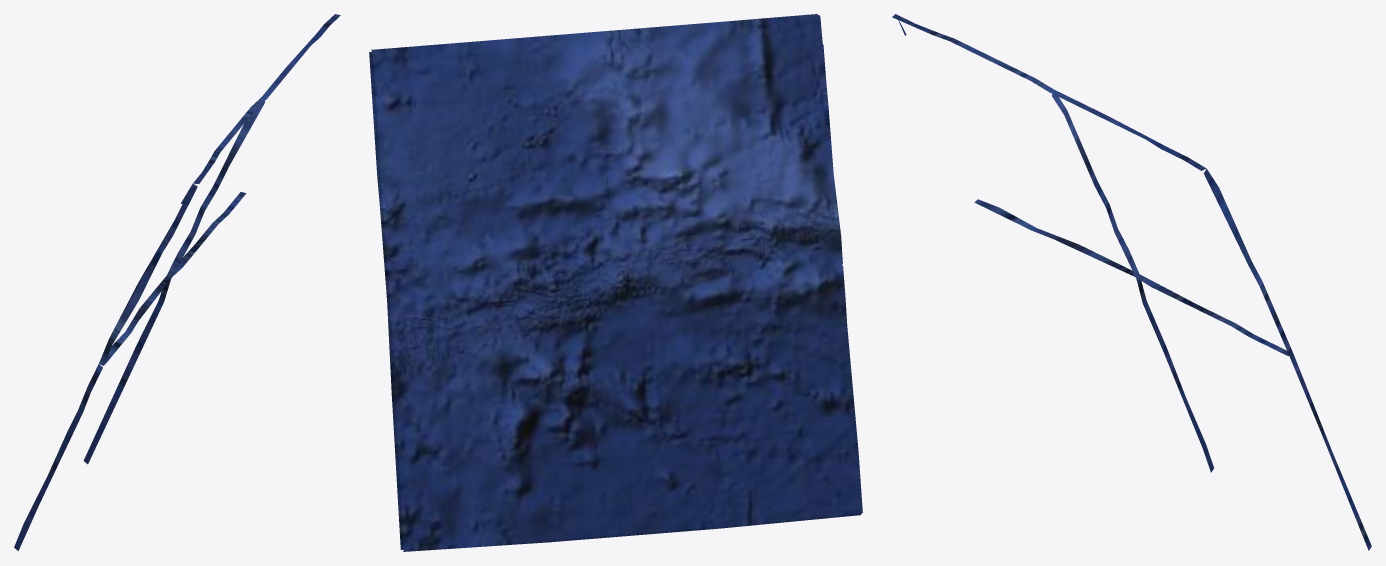
3 views of the same model, side by side, from view 1: azimuth 30°, elevation 25°; view 2: azimuth 150°, elevation 25°; view 3: azimuth 270°, elevation 25° (orthographic). The views are drawn at different scales.
Bounding box in the file's own units: 303142 × 289808 × 285738.
1 material, 1 textured.
